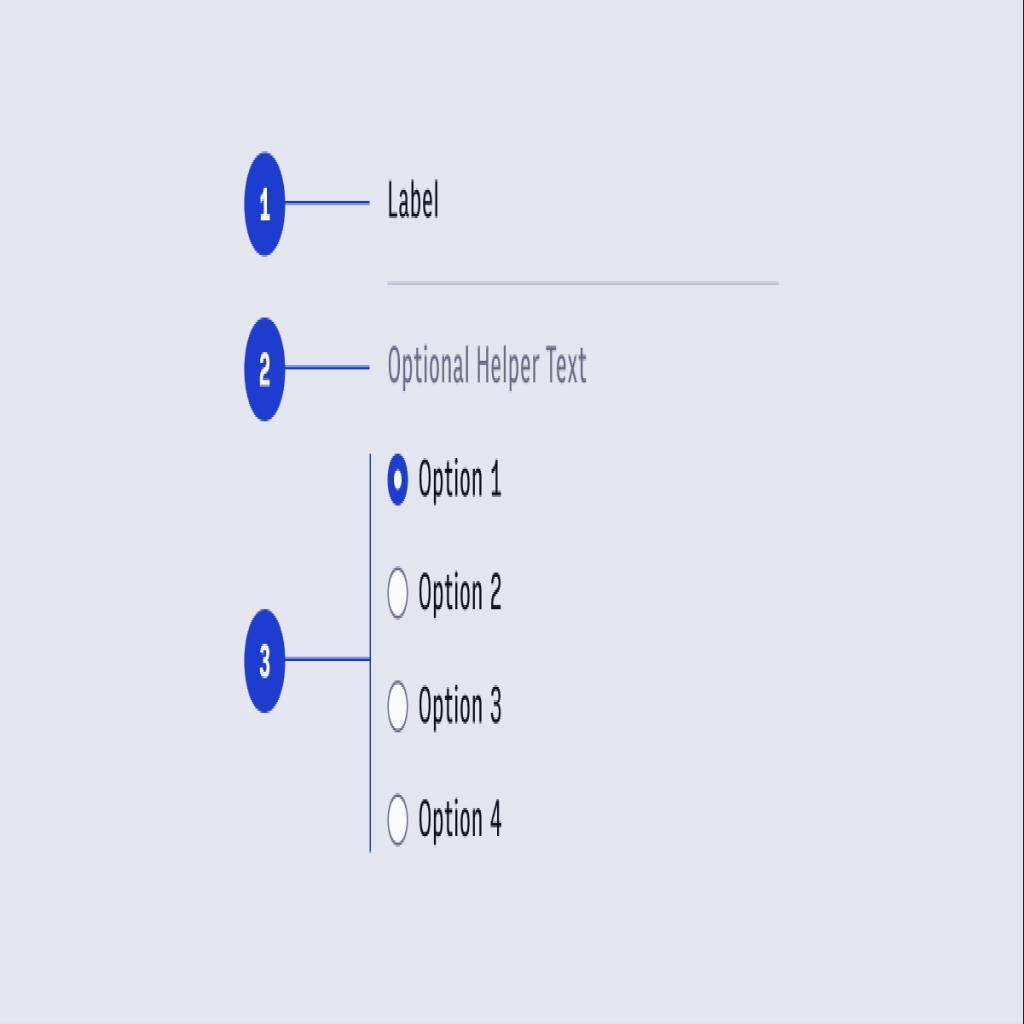label: (417, 793, 505, 849), (417, 567, 507, 619), (418, 682, 505, 731), (416, 457, 506, 504)
radio: (385, 678, 414, 737), (386, 453, 413, 510), (387, 565, 411, 624), (389, 793, 410, 853)
